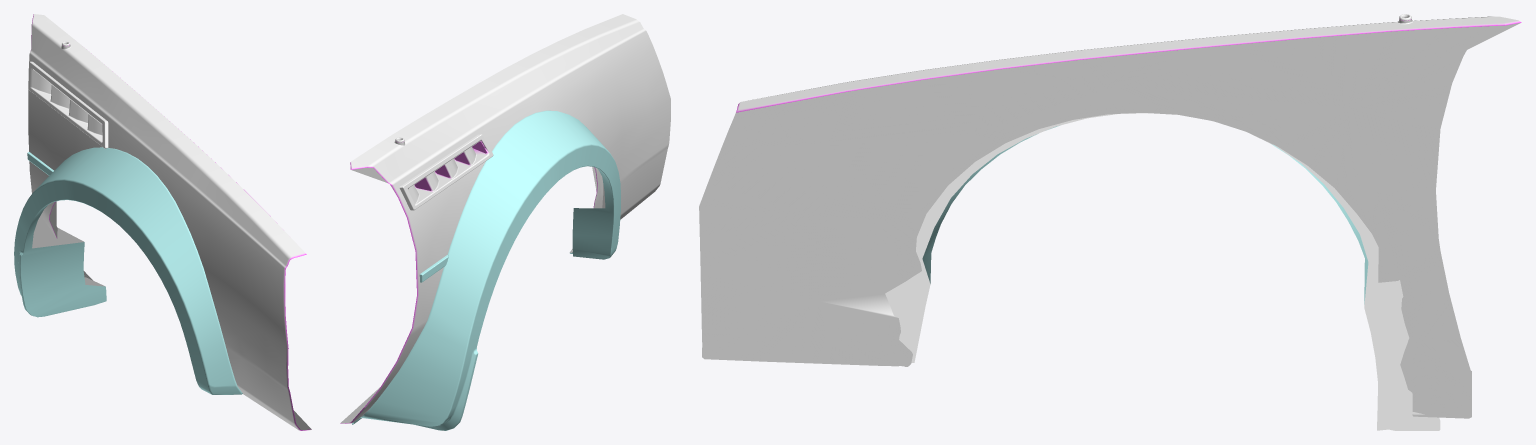
File: Car_Buick_GrandNational_1987_FenderFR_SetD.fbx
The picture shows the model from 3 angles, left to right: view 1: azimuth 30°, elevation 25°; view 2: azimuth 150°, elevation 25°; view 3: azimuth 270°, elevation 25°; orthographic projection. The views are drawn at different scales.
Parts seen in each view (by area): view 1: FenderFR 6; view 2: FenderFR 6; view 3: FenderFR 6.
Boxes of the visible parts, left/top/right/bottom form: FenderFR 6: left=14, top=14, right=311, bottom=430; FenderFR 6: left=340, top=14, right=670, bottom=430; FenderFR 6: left=699, top=14, right=1521, bottom=430.
Bounding box in the file's own units: 0.2753 × 0.7588 × 1.42.
